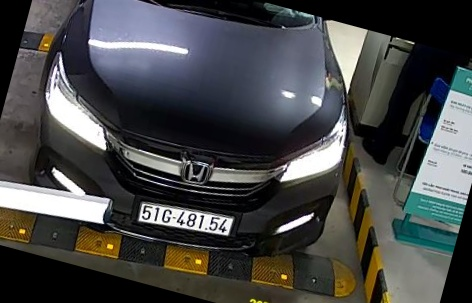plate: (130, 195, 239, 241)
